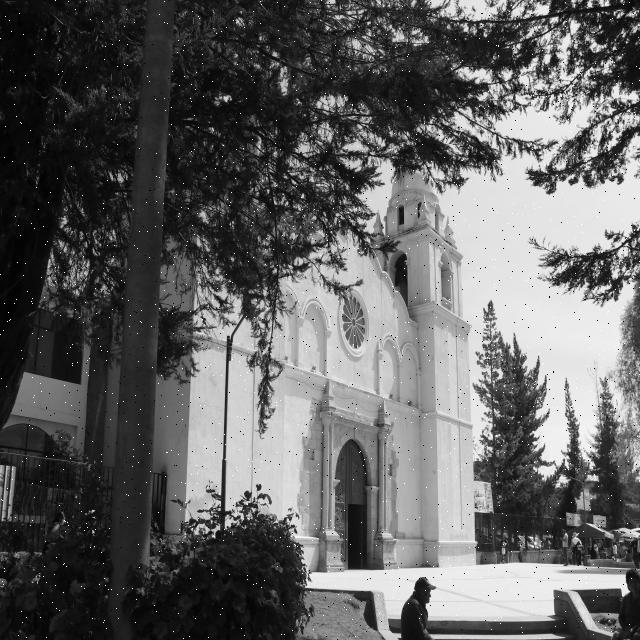CAMPANARIO: (369, 216, 470, 326)
CUPULA: (378, 139, 453, 233)
PORTADA CENTRAL: (310, 396, 383, 576)
TORRES: (367, 121, 486, 574)
colonial-architecture-: (112, 109, 504, 584)
